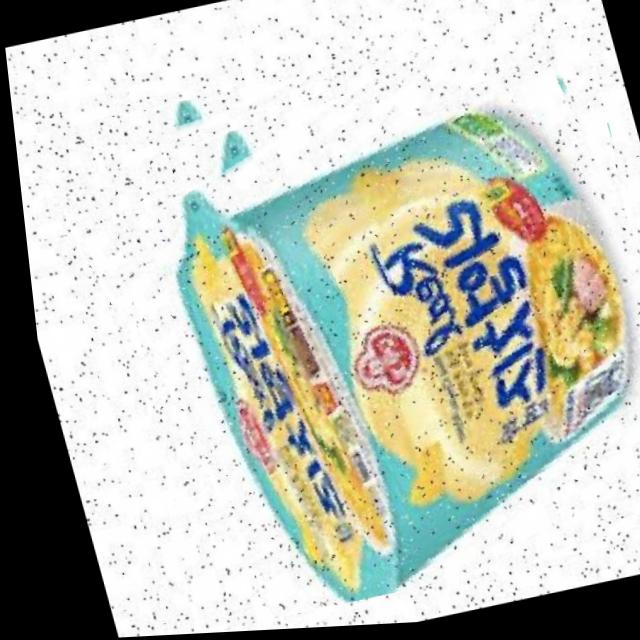Miscellaneous: (38, 0, 640, 639)
